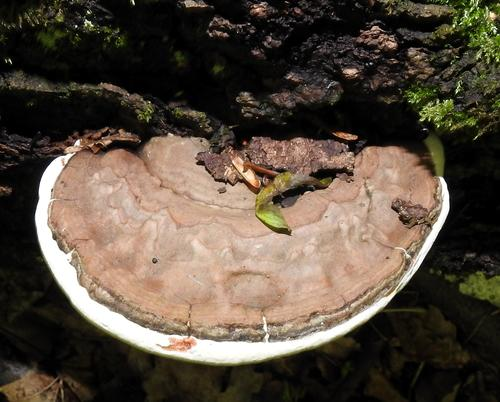Ganoderma - Fruit Body: (36, 123, 448, 370)
